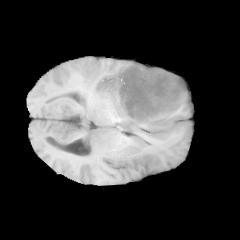glioma: (117, 63, 185, 128)
